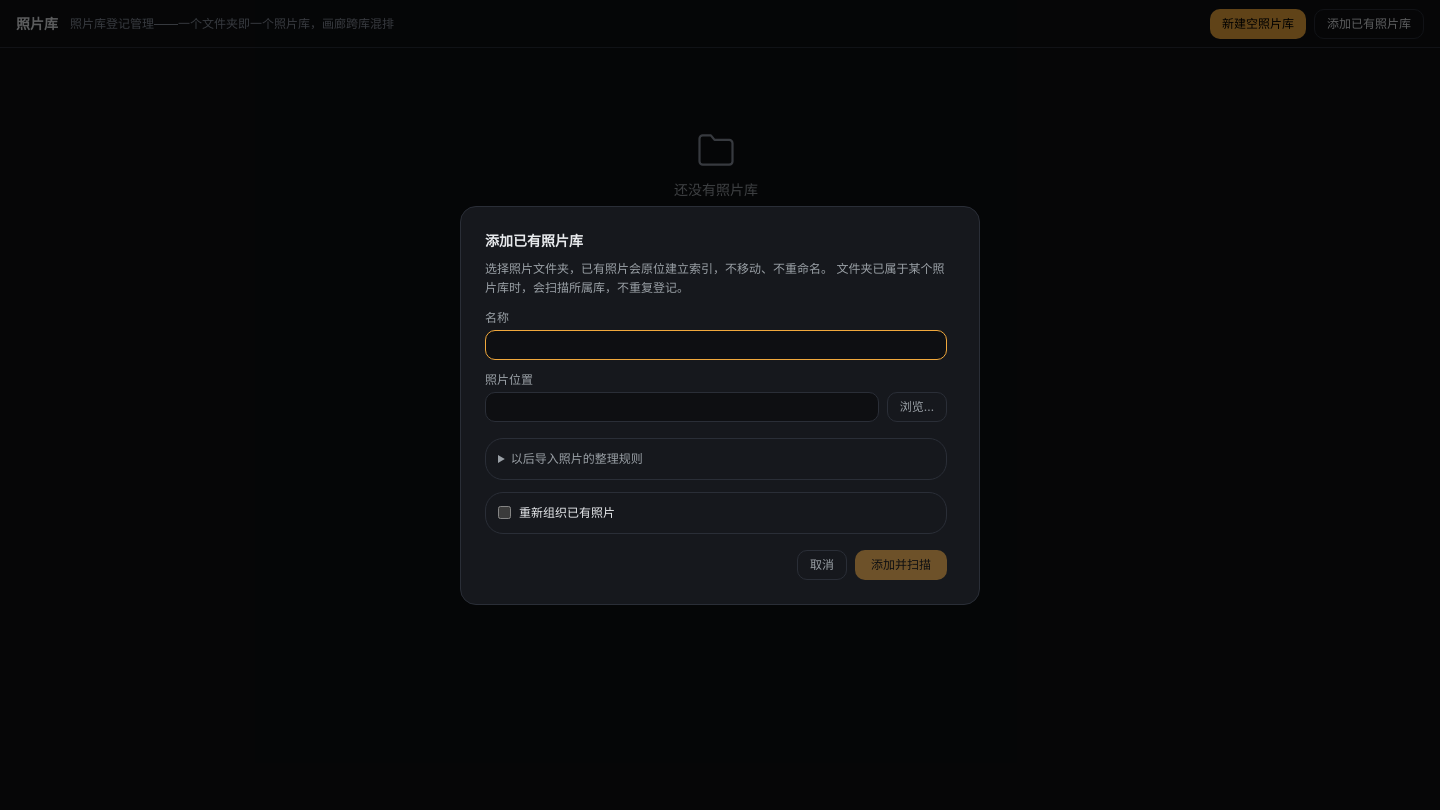
StoragePage 登记入口（photo_library_create，单一按钮 + 对话框内模式二选一） › 开启重新整理后展开规则与移动说明，主按钮明确表示会整理
Step 1. Click the checkbox → click(504, 512), box [498,506,511,519]
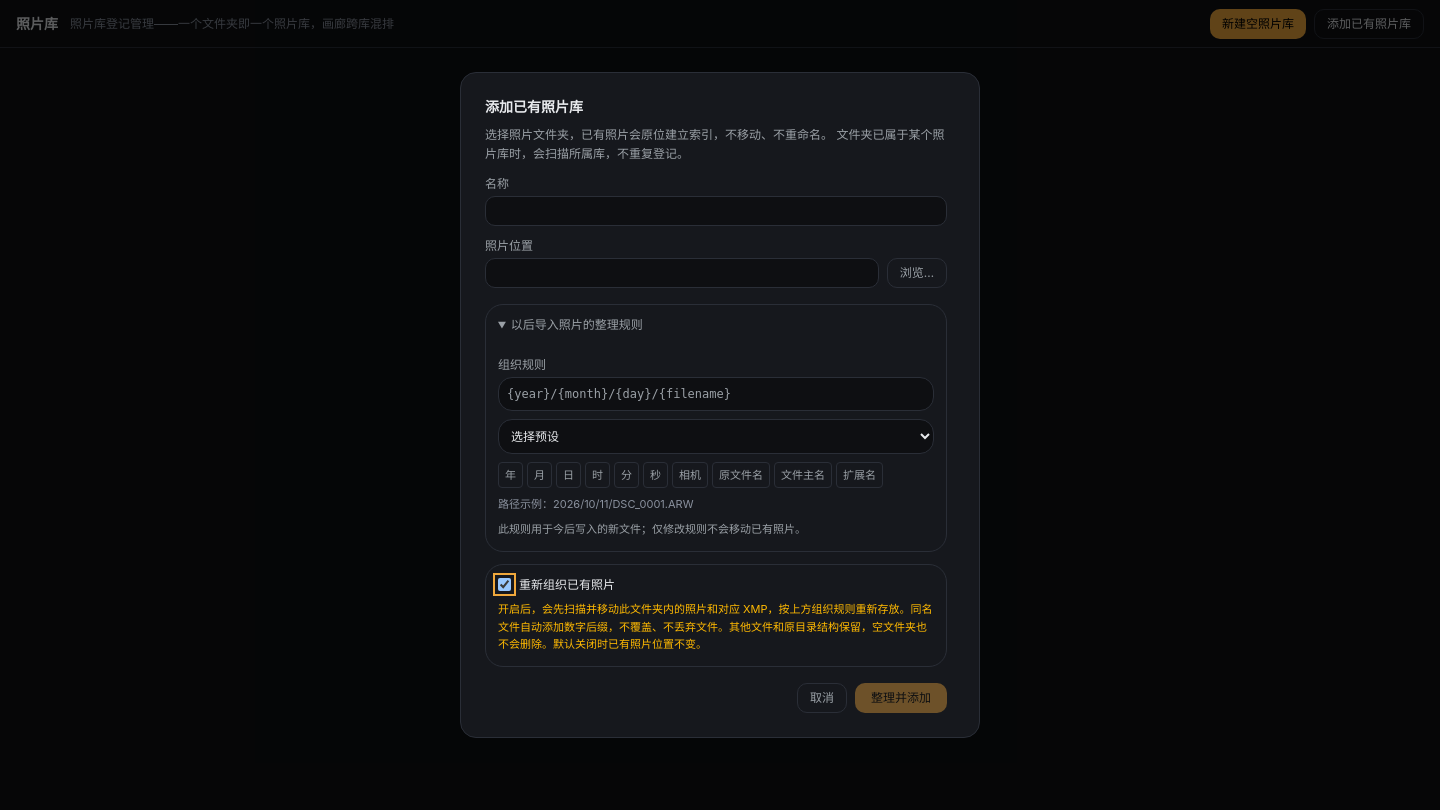
Expected: the button with test id "storage-create-confirm" reads "整理并添加", [855,683,947,713]
